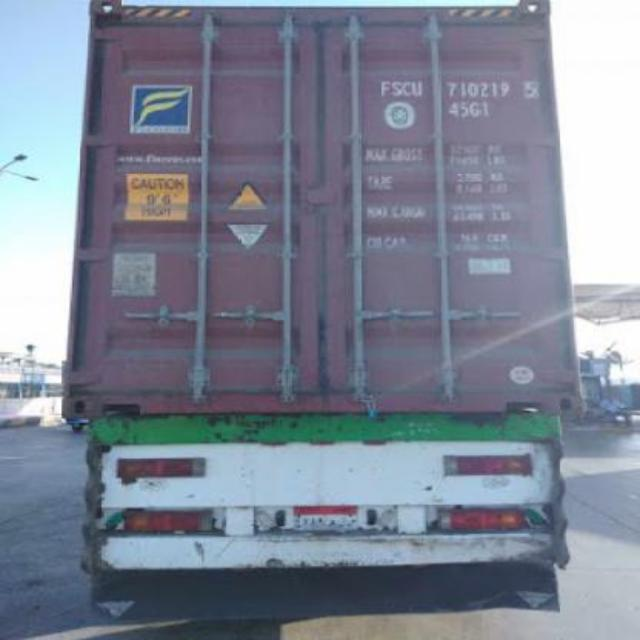0: (468, 79, 480, 99)
1: (458, 81, 466, 101), (490, 81, 498, 99)
2: (478, 79, 490, 99)
5: (524, 81, 536, 97)
7: (446, 81, 456, 97)
9: (498, 79, 510, 97)
C: (400, 79, 410, 97)
F: (380, 79, 390, 99)
S: (390, 81, 400, 97)
U: (410, 79, 422, 97)
